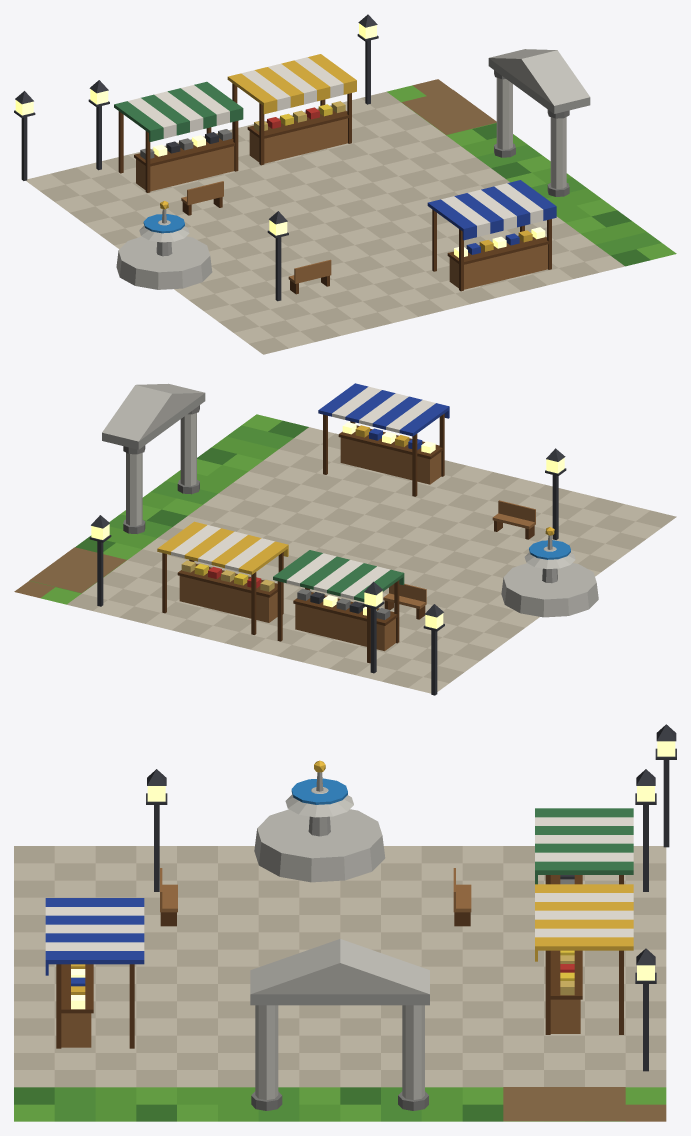
The model's file is chunk_6_11.glb.
3 views of the same model, one above another, from view 1: azimuth 30°, elevation 25°; view 2: azimuth 150°, elevation 25°; view 3: azimuth 270°, elevation 25° (orthographic). The views are drawn at different scales.
Parts seen in each view (by area): view 1: chunk_6_11; view 2: chunk_6_11; view 3: chunk_6_11.
Boxes of the visible parts, bbox=[...] form: chunk_6_11: bbox=[14, 14, 676, 354]; chunk_6_11: bbox=[14, 383, 676, 695]; chunk_6_11: bbox=[14, 724, 676, 1121].
Size of the model in its own units: 17.11 by 4.3 by 16.26.
